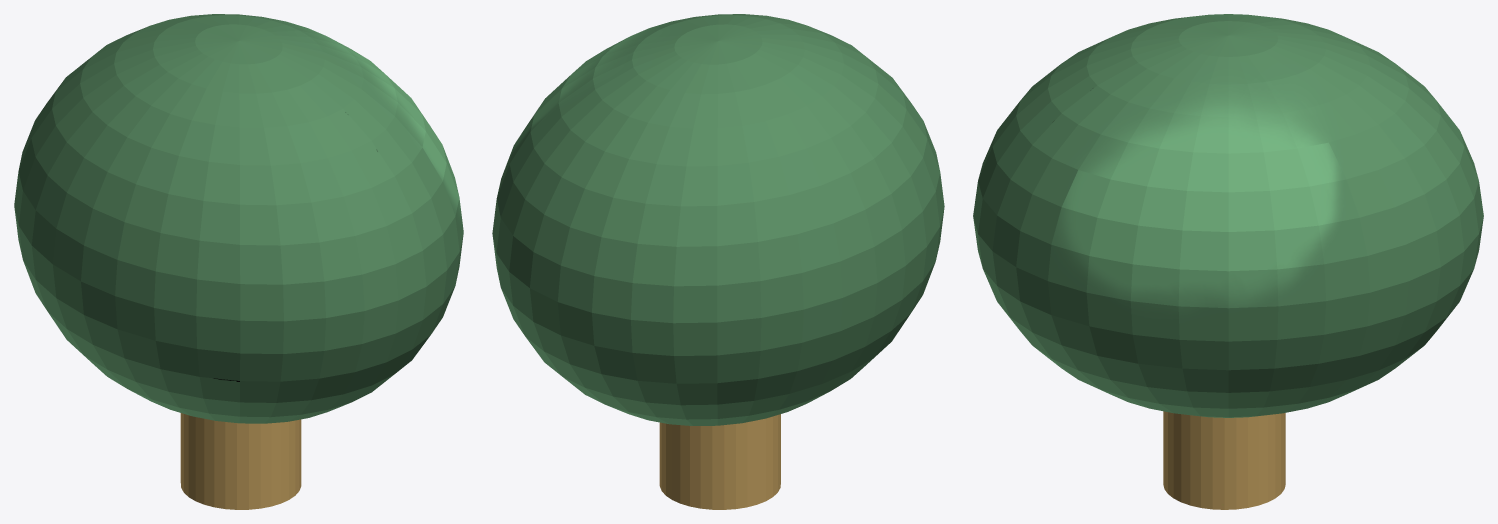
File: Small Tree ModelT GreenD.fbx
3 renders of one model, left to right at view 1: azimuth 30°, elevation 25°; view 2: azimuth 150°, elevation 25°; view 3: azimuth 270°, elevation 25°, orthographic.
Parts seen in each view (by area): view 1: Cylinder; view 2: Cylinder; view 3: Cylinder.
Boxes of the visible parts, x1,y1,x2,y2 form: Cylinder: [14, 14, 463, 509]; Cylinder: [492, 14, 944, 509]; Cylinder: [973, 14, 1483, 509].
Size of the model in its own units: 41.79 by 47.4 by 48.93.
